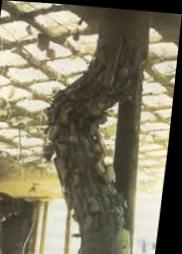damage: (47, 34, 148, 232)
